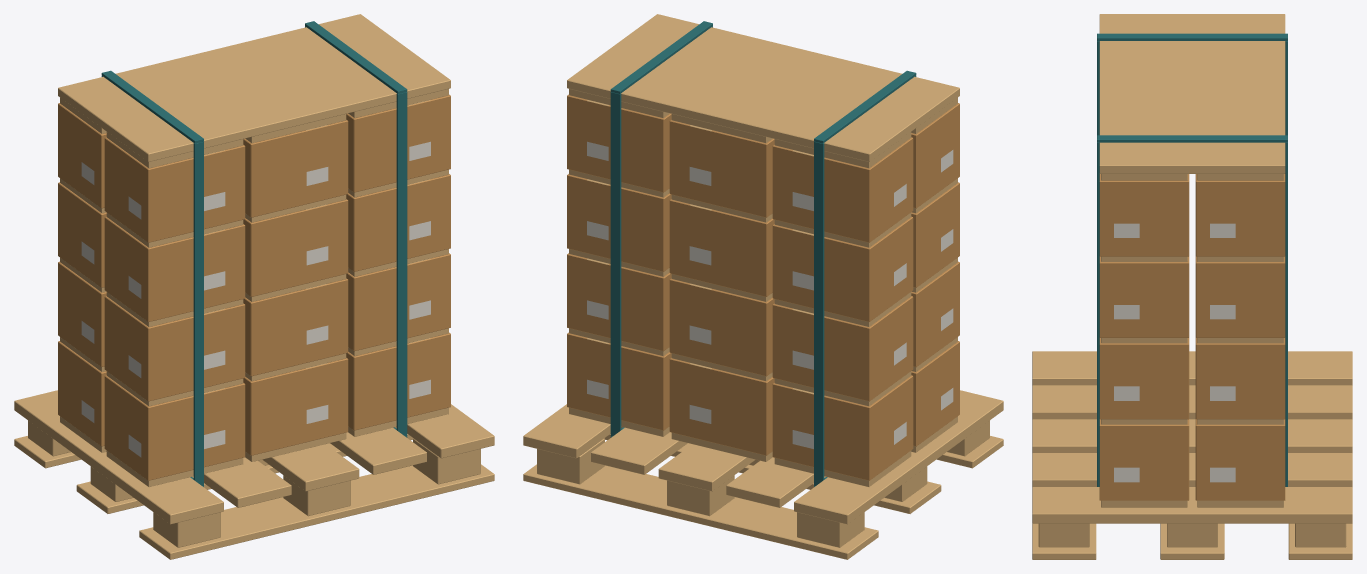
File: pallet-load.glb
3 views of the same model, side by side, from view 1: azimuth 30°, elevation 25°; view 2: azimuth 150°, elevation 25°; view 3: azimuth 270°, elevation 25° (orthographic). The views are drawn at different scales.
Parts seen in each view (by area): view 1: pallet-load__batch_02, pallet-load__batch_01, pallet-load__batch_00; view 2: pallet-load__batch_02, pallet-load__batch_01, pallet-load__batch_00; view 3: pallet-load__batch_01, pallet-load__batch_02, pallet-load__batch_00.
Boxes of the visible parts, x1,y1,x2,y2 form: pallet-load__batch_02: [58, 94, 450, 480]; pallet-load__batch_01: [14, 14, 494, 559]; pallet-load__batch_00: [101, 21, 407, 486]; pallet-load__batch_02: [567, 94, 959, 480]; pallet-load__batch_01: [523, 14, 1003, 559]; pallet-load__batch_00: [610, 21, 916, 486]; pallet-load__batch_01: [1032, 14, 1352, 559]; pallet-load__batch_02: [1099, 174, 1285, 500]; pallet-load__batch_00: [1097, 33, 1287, 486].
Size of the model in its own units: 1.2 by 1.35 by 1.
